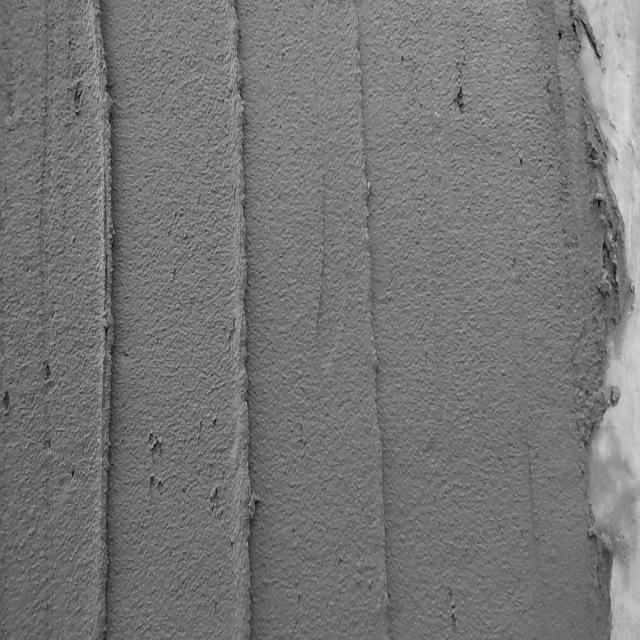trowels marks: (349, 26, 397, 640), (82, 3, 119, 640), (223, 6, 258, 640)
